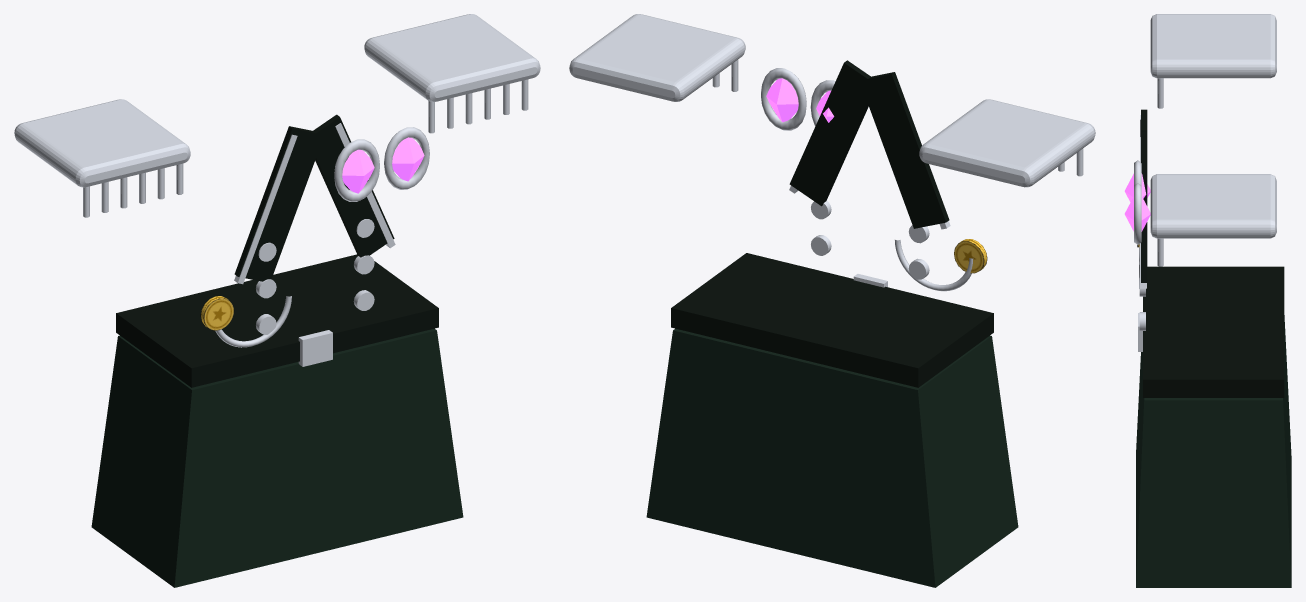
File: eqf_eqtz2.glb
3 views of the same model, side by side, from view 1: azimuth 30°, elevation 25°; view 2: azimuth 150°, elevation 25°; view 3: azimuth 270°, elevation 25° (orthographic). The views are drawn at different scales.
Size of the model in its own units: 3.98 by 3.53 by 1.32.
6 materials, 1 textured.
